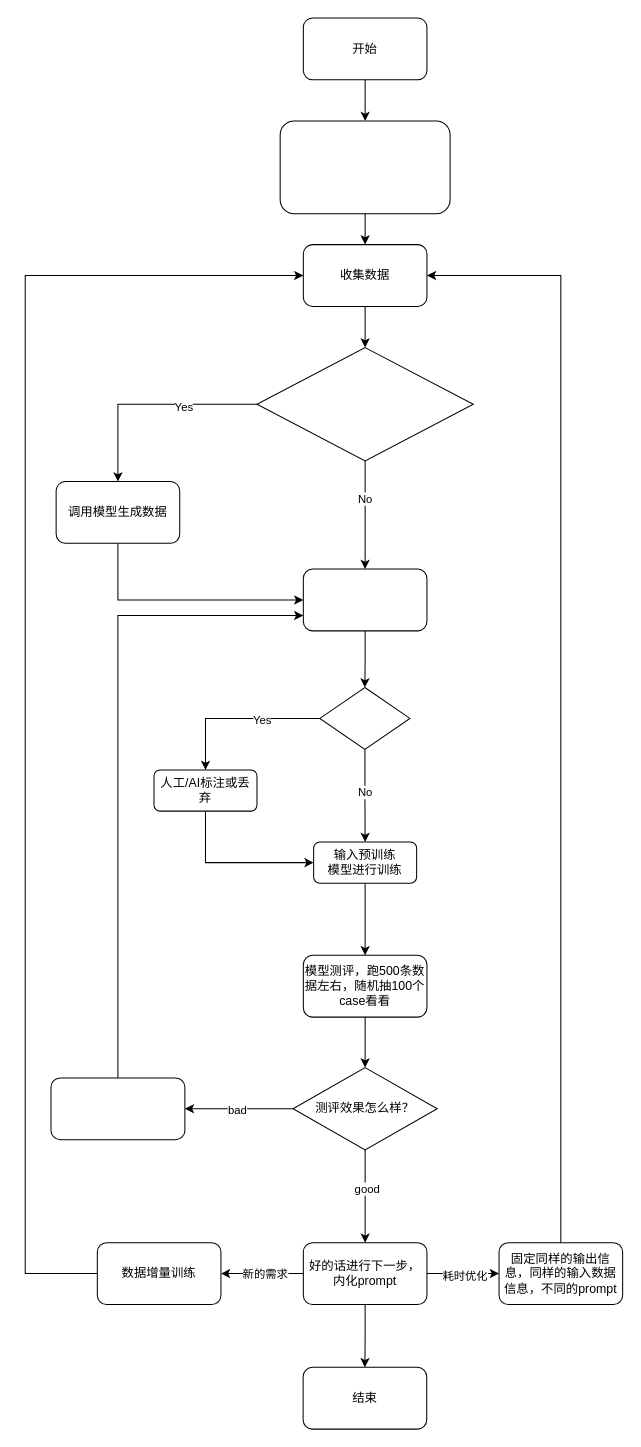
Some shapes in this 641 by 1447 pixel diagram are drawn without their labels. The centre of each missing label's shape, as x and y in pixels:
"不好的话回 到上一步数据清洗" goes at (x=117, y=1108).
"参照下面的流程可以先用小数据训练几个模型并测评，做消融实验，注意控制变量" goes at (x=364, y=167).
"数据查看，之后进行数据清洗/筛选" goes at (x=364, y=599).
"是否是好数据" goes at (x=364, y=717).
"是否需要调用已 对齐大模型生成回复" goes at (x=364, y=404).
